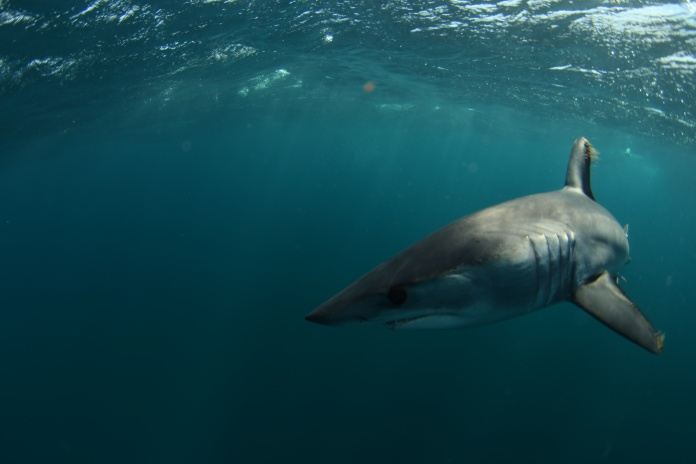Mako: (295, 130, 672, 363)
